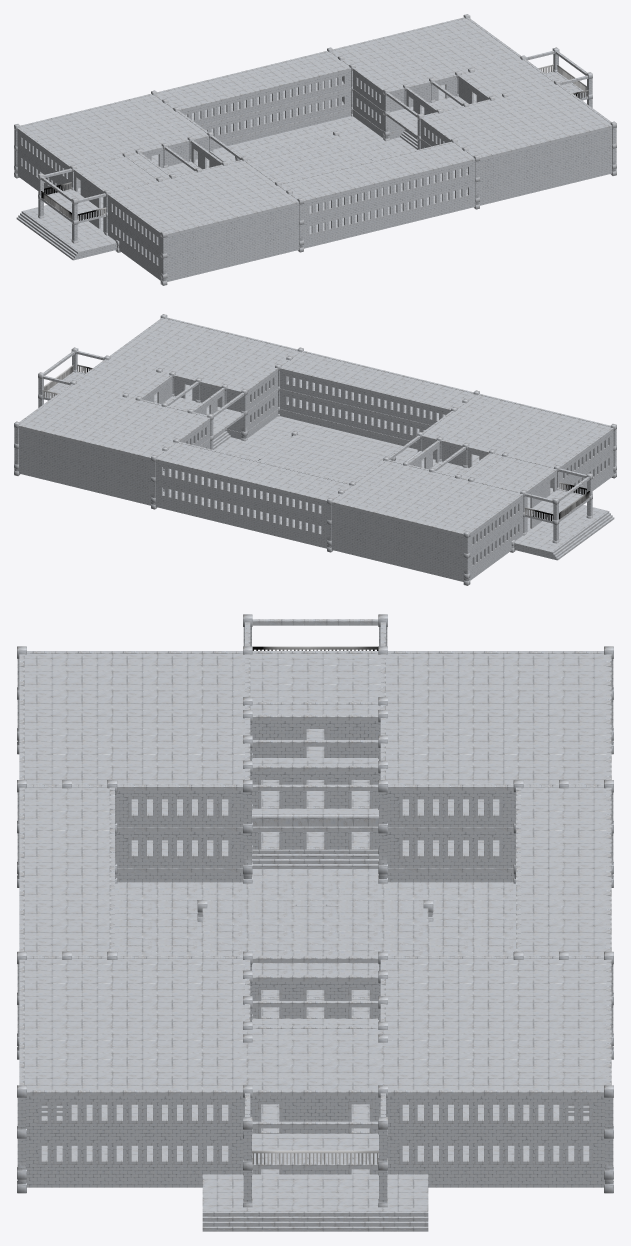
Rendered from Stage3.fbx.
3 views of the same model, one above another, from view 1: azimuth 30°, elevation 25°; view 2: azimuth 150°, elevation 25°; view 3: azimuth 270°, elevation 25° (orthographic). The views are drawn at different scales.
Visible parts, largest first — view 1: BuildTest_A; view 2: BuildTest_A; view 3: BuildTest_A.
Part boxes in pixels (x1,y1,x2,y2): BuildTest_A: (14, 14, 616, 285); BuildTest_A: (14, 314, 616, 585); BuildTest_A: (17, 614, 613, 1231).
Bounding box in the file's own units: 8300 × 765 × 3965.
5 materials, 4 textured.
